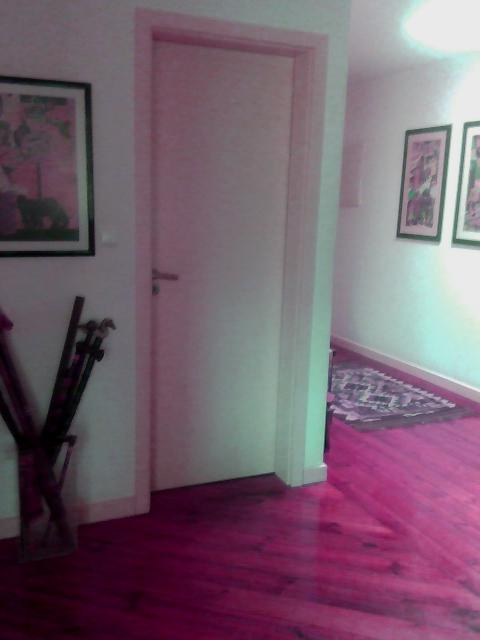closed_door: (131, 6, 325, 506)
